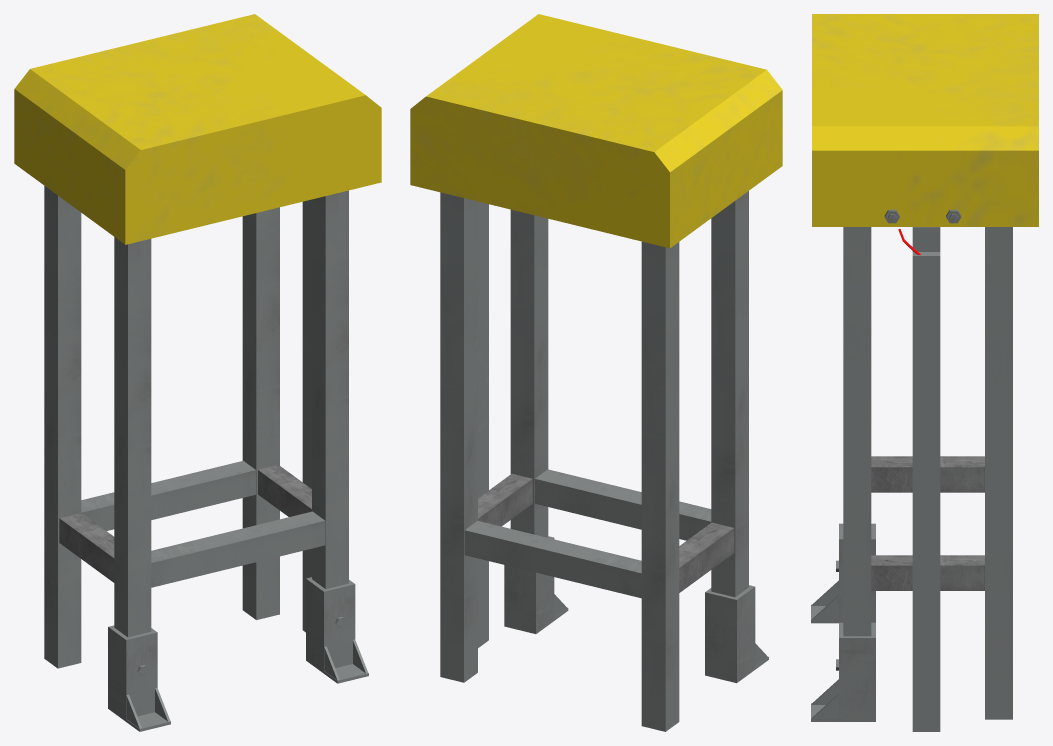
The model's file is Txinggu.FBX.
The picture shows the model from 3 angles, left to right: view 1: azimuth 30°, elevation 25°; view 2: azimuth 150°, elevation 25°; view 3: azimuth 270°, elevation 25°; orthographic projection. The views are drawn at different scales.
Parts seen in each view (by area): view 1: YF_Model_Txinggu; view 2: YF_Model_Txinggu; view 3: YF_Model_Txinggu.
Boxes of the visible parts, <box> form: YF_Model_Txinggu: <box>14,14,381,731</box>; YF_Model_Txinggu: <box>410,14,782,731</box>; YF_Model_Txinggu: <box>811,14,1038,731</box>.
Bounding box in the file's own units: 33.65 × 70.89 × 24.62.
